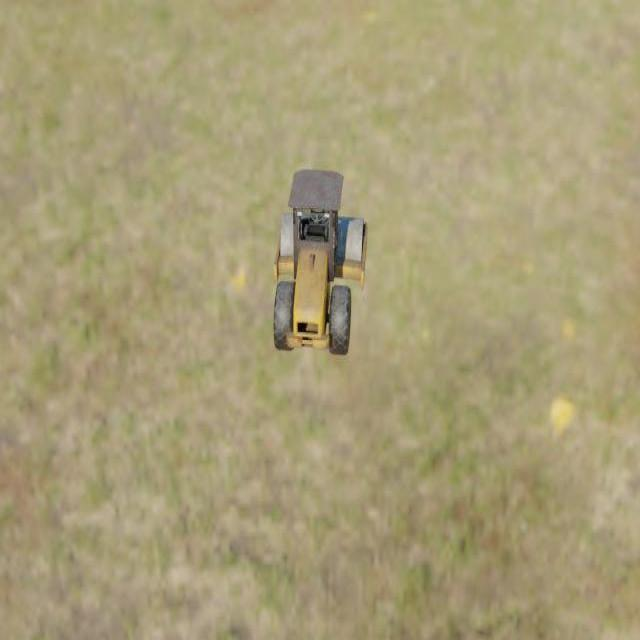Roller: (272, 168, 368, 356)
